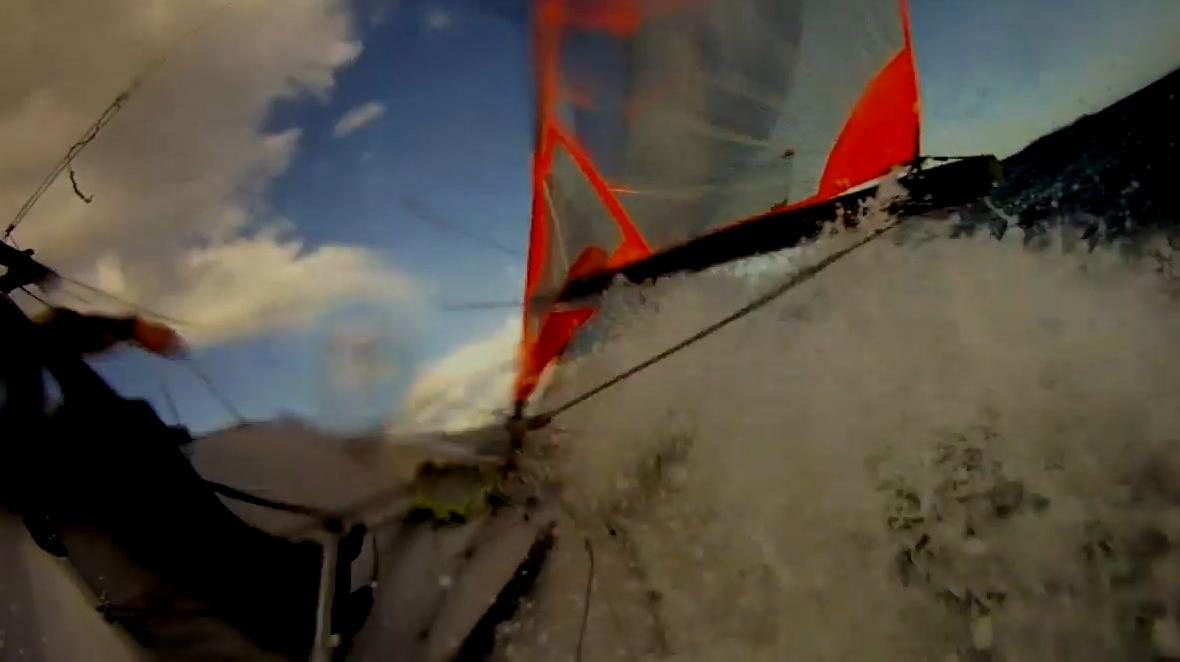boat: (0, 0, 998, 662)
person: (0, 242, 321, 626)
sea: (546, 70, 1180, 662)
sky: (0, 0, 535, 448), (908, 0, 1180, 159)
